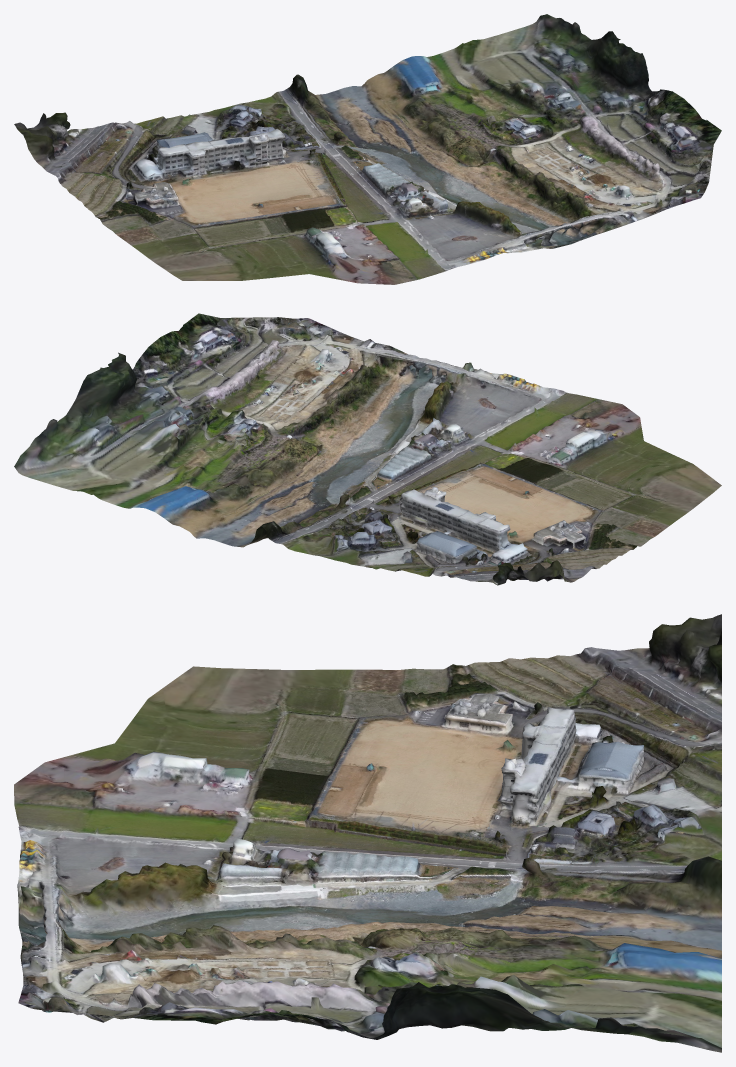
Rendered from kamiyama-kosen.glb.
The picture shows the model from 3 angles, top to bottom: view 1: azimuth 30°, elevation 25°; view 2: azimuth 150°, elevation 25°; view 3: azimuth 270°, elevation 25°; orthographic projection. The views are drawn at different scales.
Parts seen in each view (by area): view 1: baked_mesh; view 2: baked_mesh; view 3: baked_mesh.
Boxes of the visible parts, x1,y1,x2,y2 form: baked_mesh: (14,14,721,284); baked_mesh: (14,313,721,585); baked_mesh: (14,614,721,1052).
Size of the model in its own units: 2.6 by 0.3019 by 1.93.
Materials: 1 (1 with a texture image).
